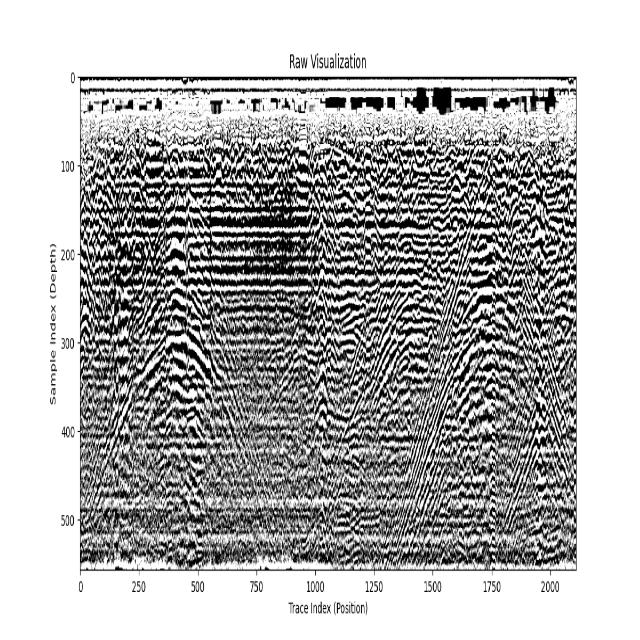anomaly: (374, 132, 575, 556), (88, 314, 273, 559), (162, 184, 212, 546), (110, 188, 130, 557)
